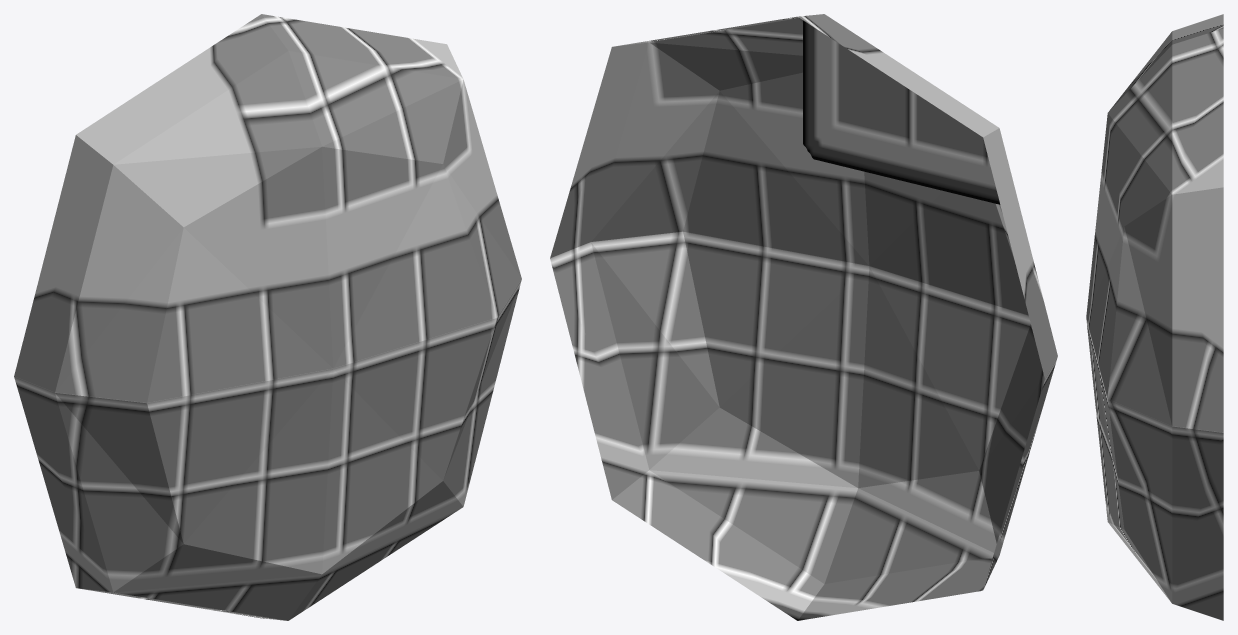
File: crystal_marker.obj
3 renders of one model, left to right at view 1: azimuth 30°, elevation 25°; view 2: azimuth 150°, elevation 25°; view 3: azimuth 270°, elevation 25°, orthographic. The views are drawn at different scales.
Parts seen in each view (by area): view 1: none; view 2: none; view 3: none.
Part boxes in pixels (box(x1,y1,x2,y2)): none: box(14, 14, 521, 620); none: box(550, 14, 1057, 620); none: box(1086, 14, 1223, 620).
Size of the model in its own units: 0.636 by 0.742 by 0.16.
